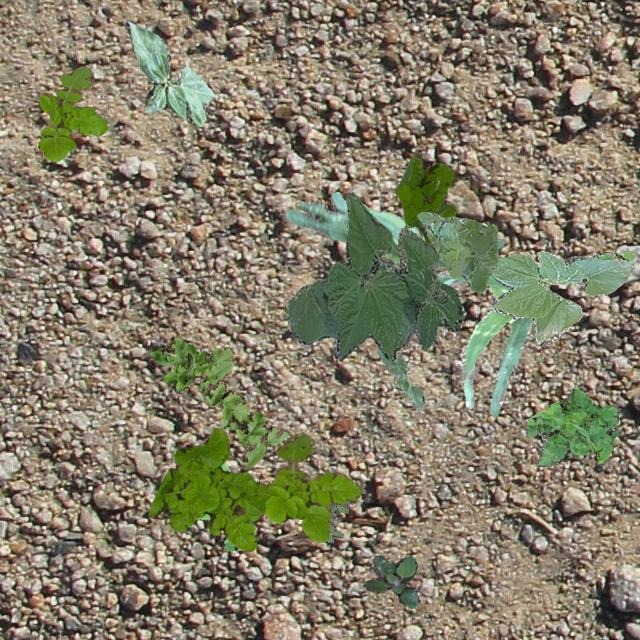crop: (286, 192, 462, 360), (284, 190, 502, 270), (436, 272, 532, 416), (489, 250, 634, 344), (124, 20, 214, 126), (376, 348, 424, 409)
weed: (147, 426, 360, 550), (150, 336, 288, 468), (526, 384, 618, 466), (36, 64, 106, 160), (417, 210, 497, 292), (394, 152, 456, 228), (196, 462, 236, 550), (362, 554, 418, 608), (323, 499, 349, 542)
